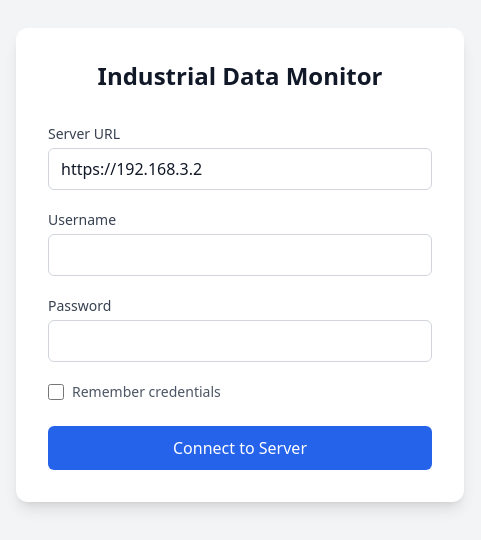
Test case: LoginForm › shows an error when password is empty
This screenshot has width=481, height=540.
Type "https://test.com" into the field with id "serverUrl". click: x=240, y=169
box: [48,148,432,190]
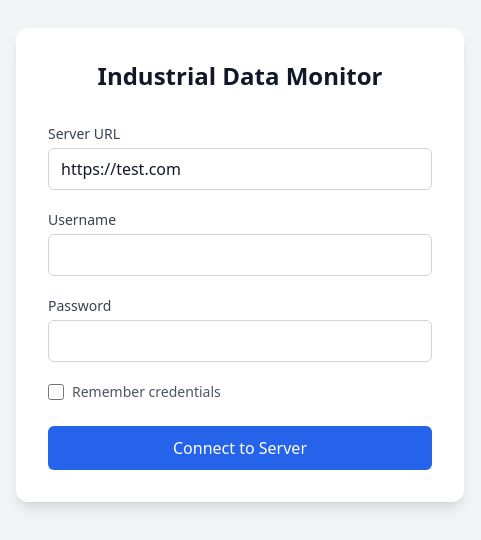
Type "user" into the field with id "username". click: x=240, y=255
box: [48,234,432,276]
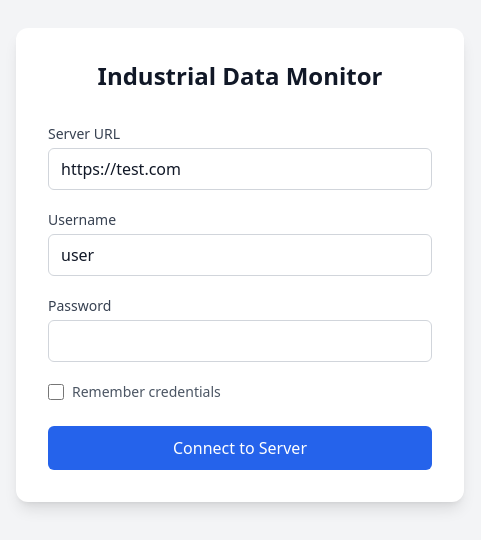
Submit the form, box [48,124,432,470]
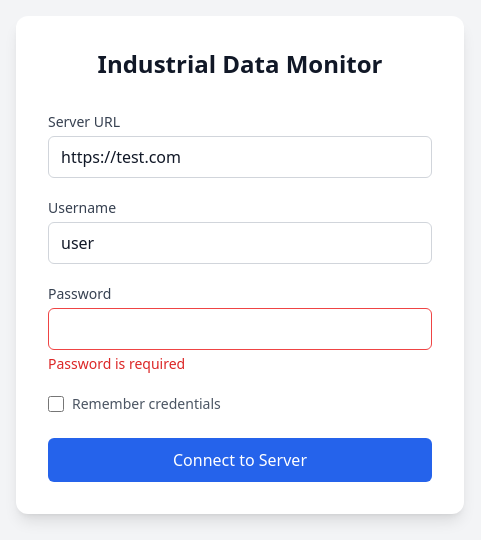
Expected: the text "Password is required" is shown, [48,354,185,373]
